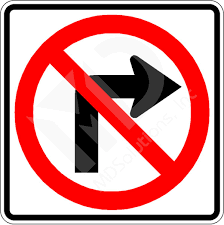No_right_turn: (16, 13, 210, 210)
